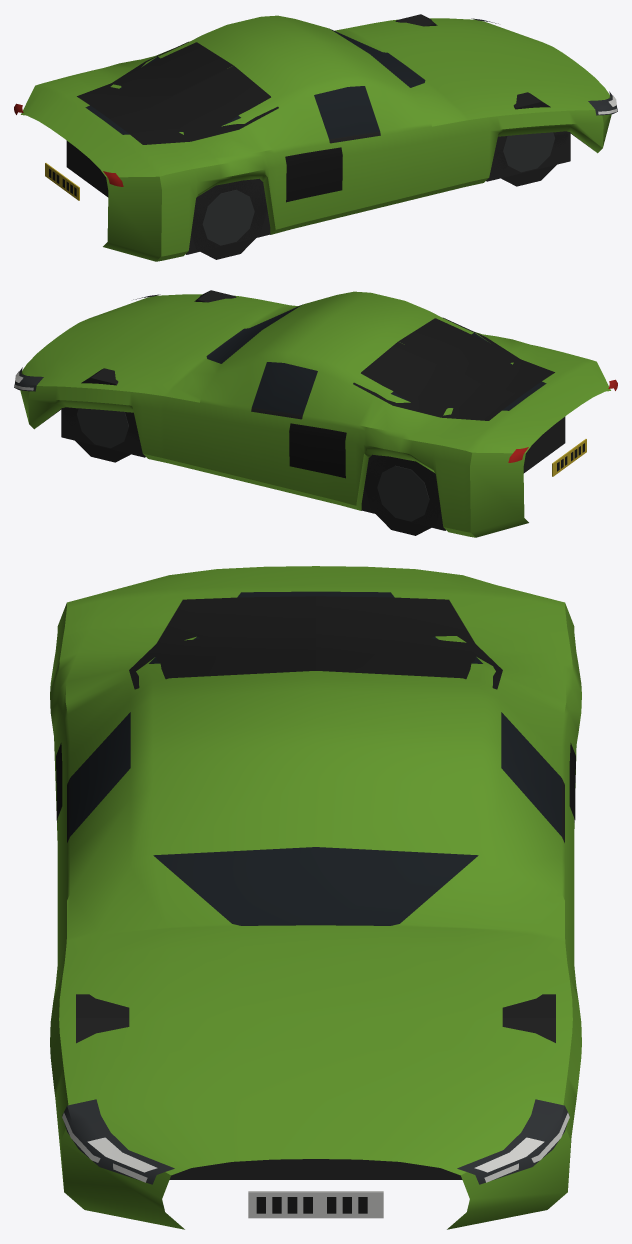
Rendered from SM_Prop_parked_car_113_LOD1.glb.
The picture shows the model from 3 angles, top to bottom: view 1: azimuth 30°, elevation 25°; view 2: azimuth 150°, elevation 25°; view 3: azimuth 270°, elevation 25°; orthographic projection. The views are drawn at different scales.
Parts seen in each view (by area): view 1: SM_Prop_parked_car_113_LOD1; view 2: SM_Prop_parked_car_113_LOD1; view 3: SM_Prop_parked_car_113_LOD1.
Part boxes in pixels (<box>): SM_Prop_parked_car_113_LOD1: <box>14,14,617,261</box>; SM_Prop_parked_car_113_LOD1: <box>14,290,617,537</box>; SM_Prop_parked_car_113_LOD1: <box>50,566,581,1229</box>.
Size of the model in its own units: 4.55 by 1.17 by 2.04.
